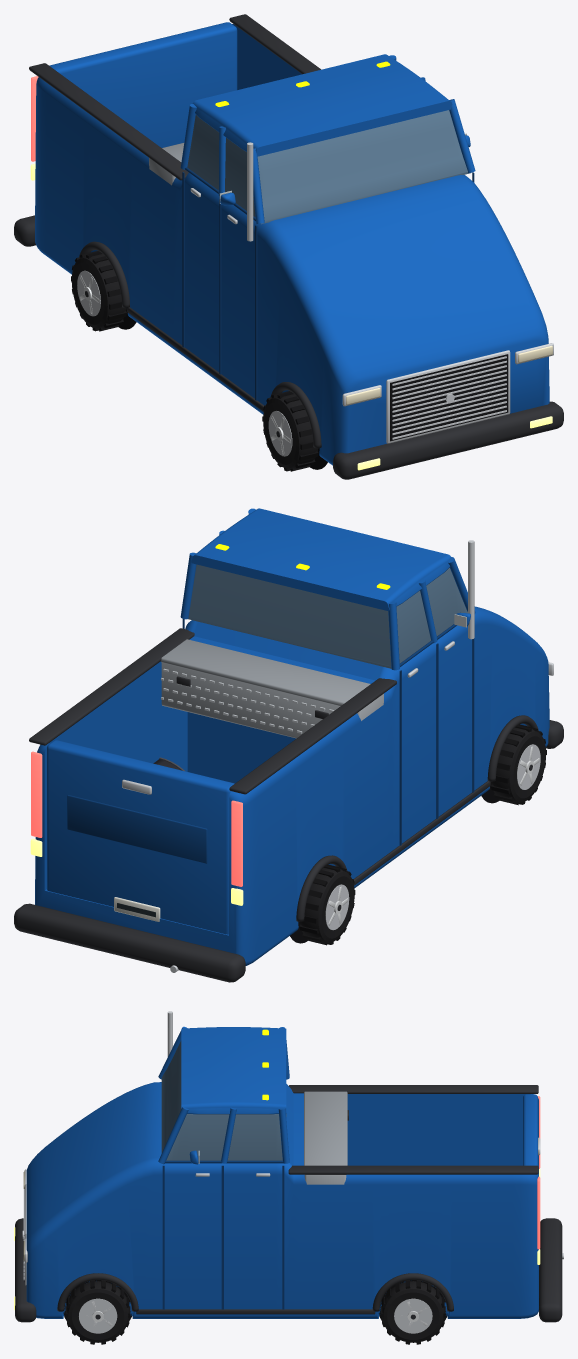
The model's file is moveout.fbx.
3 renders of one model, top to bottom at view 1: azimuth 30°, elevation 25°; view 2: azimuth 150°, elevation 25°; view 3: azimuth 270°, elevation 25°, orthographic. The views are drawn at different scales.
Visible parts, largest first — view 1: Body, Tailgate, Wheel_3, Wheel_1; view 2: Body, Tailgate, Obstructions, Wheel_1, Wheel_3; view 3: Body, Obstructions, Wheel_2, Wheel_0, Tailgate.
Part boxes in pixels (x1,y1,x2,y2): Body: (14,14,563,479); Tailgate: (49,22,237,147); Wheel_3: (262,391,318,471); Wheel_1: (71,251,126,331); Body: (14,508,563,982); Tailgate: (47,740,234,934); Obstructions: (153,639,383,771); Wheel_1: (299,864,355,945); Wheel_3: (491,724,546,805); Body: (14,1011,563,1322); Obstructions: (304,1091,348,1184); Wheel_2: (65,1280,130,1344); Wheel_0: (381,1280,445,1344); Tailgate: (523,1094,540,1172).
Size of the model in its own units: 5.5 by 6.11 by 12.56.
